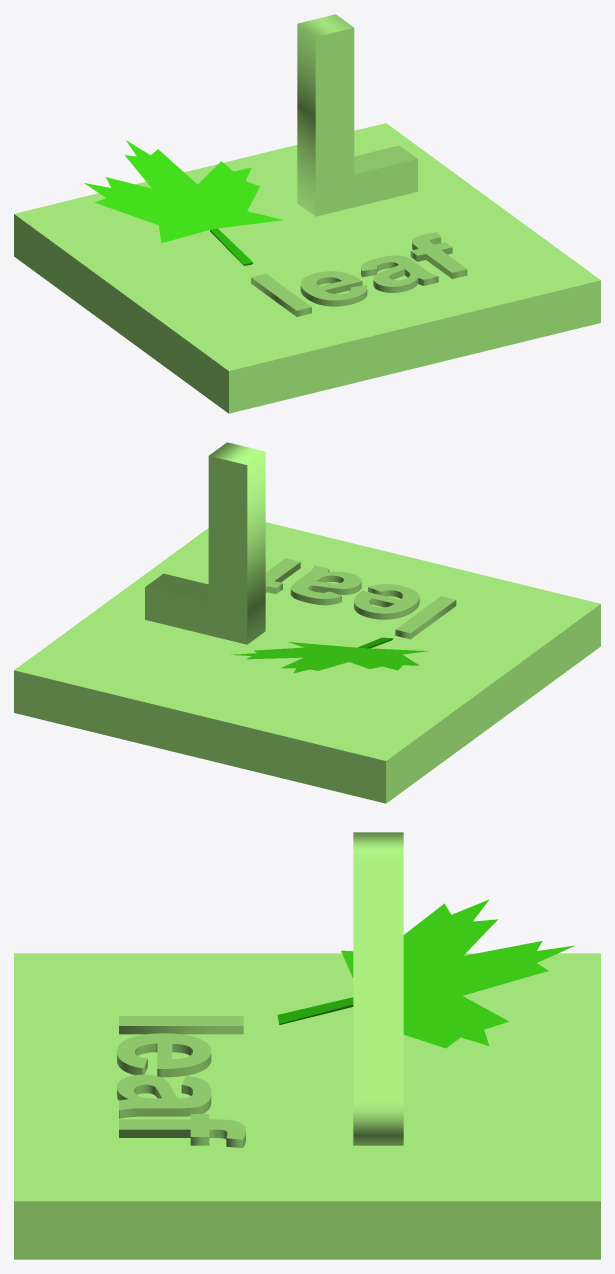
File: lletter.glb
3 views of the same model, one above another, from view 1: azimuth 30°, elevation 25°; view 2: azimuth 150°, elevation 25°; view 3: azimuth 270°, elevation 25° (orthographic). The views are drawn at different scales.
Parts seen in each view (by area): view 1: Cube.022, Text.003, Cube.001, Text.002; view 2: Cube.022, Text.003, Text.002, Cube.001; view 3: Cube.022, Text.003, Cube.001, Text.002.
Part boxes in pixels (x1,y1,x2,y2): Cube.022: (14, 123, 600, 413); Text.003: (297, 14, 417, 216); Cube.001: (84, 140, 282, 265); Text.002: (251, 232, 467, 316); Cube.022: (14, 522, 600, 803); Text.003: (145, 442, 265, 644); Text.002: (265, 558, 456, 639); Cube.001: (231, 637, 428, 673); Cube.022: (14, 953, 600, 1259); Text.003: (353, 832, 403, 1145); Cube.001: (277, 899, 574, 1048); Text.002: (117, 1016, 245, 1147).
Size of the model in its own units: 0.3237 by 0.1946 by 0.3237.
